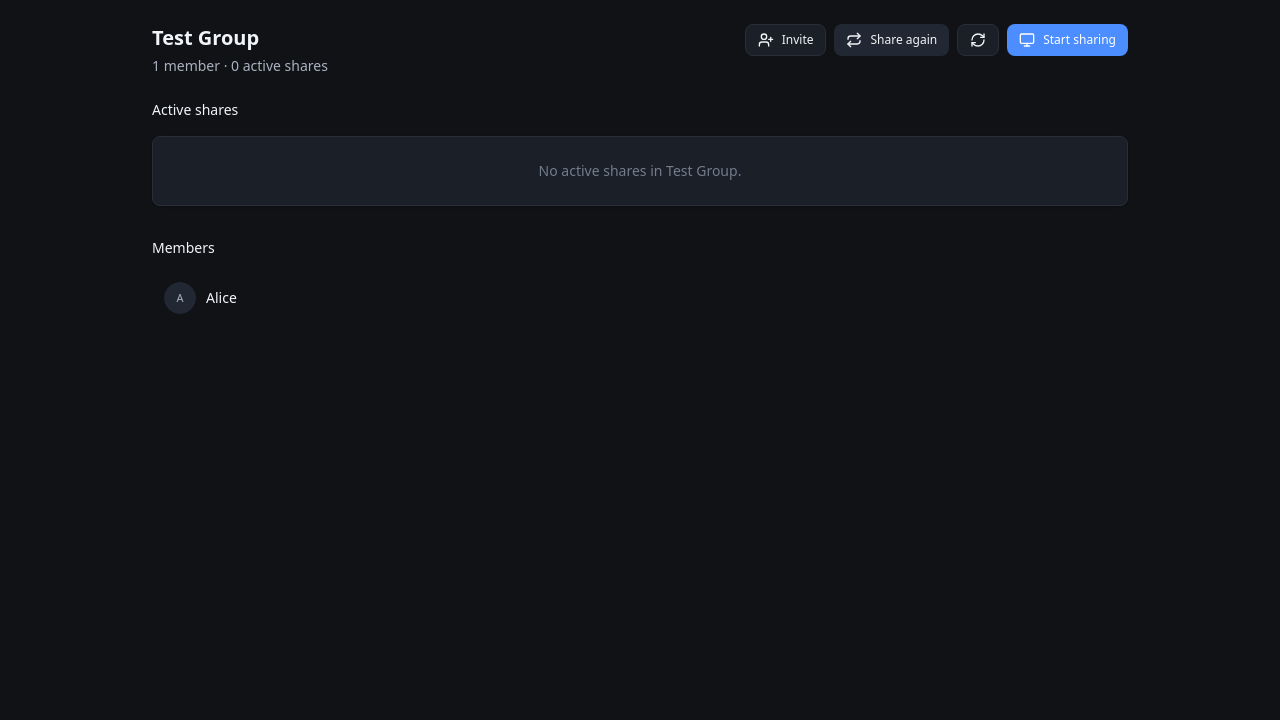
Test case: Share again one-click (Issue 1) › shows confirmation dialog when Share again clicked
Click the button "Share again".
click(892, 40)  # box [834,24,949,56]
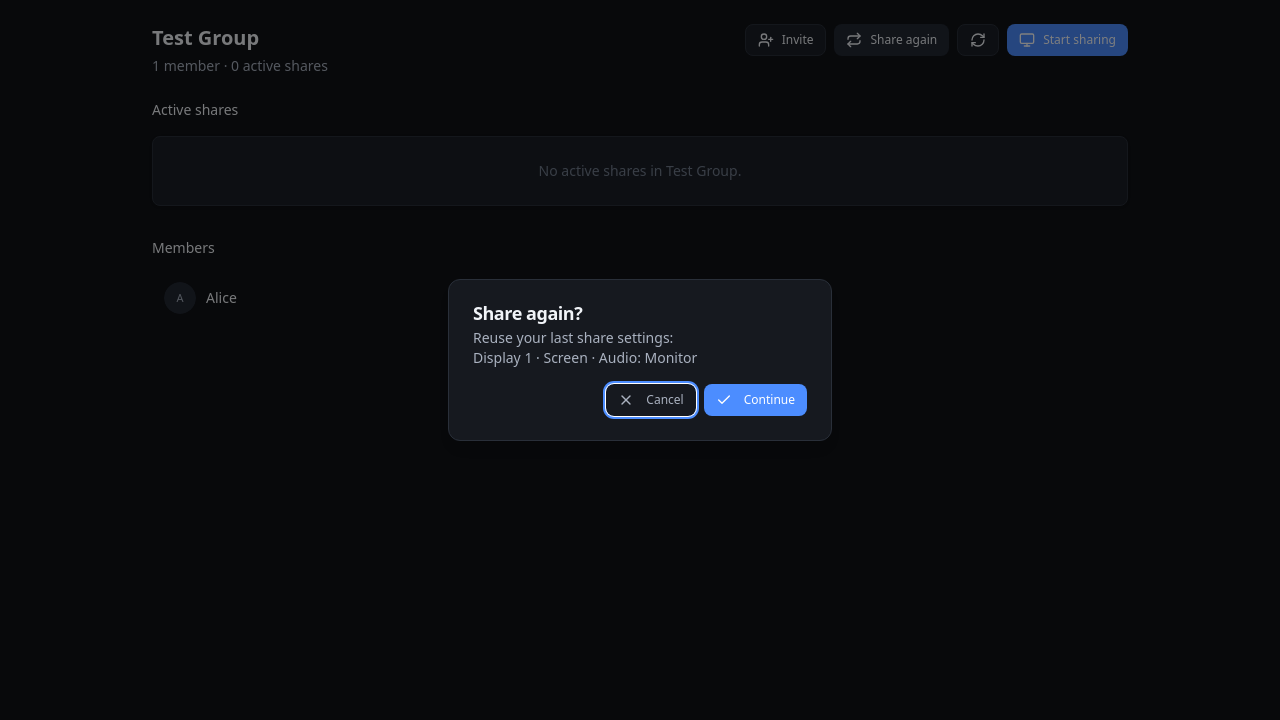
Check: the heading "Share again?" is shown, box [473,301,582,325]
Check: the button "Continue" is shown, box [704,384,807,416]
